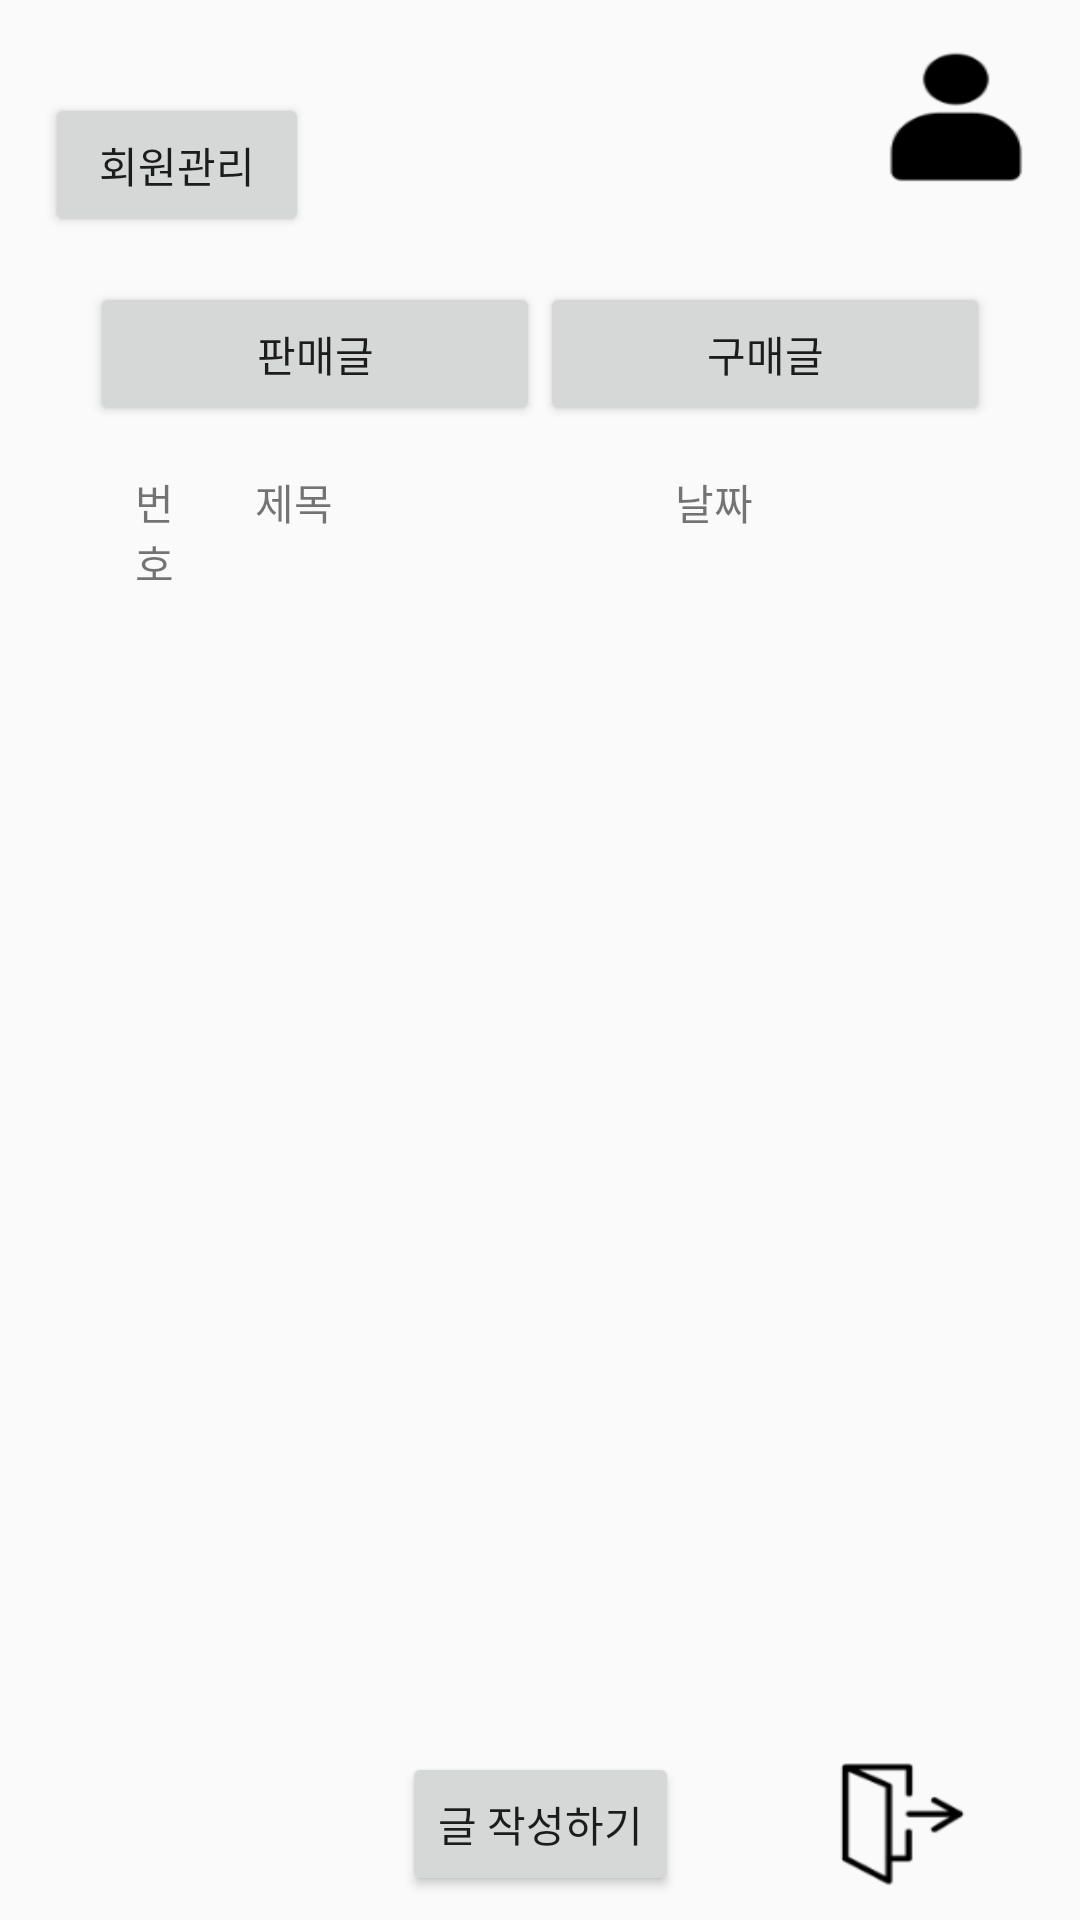

Point at icon controls on the screen. Image size 1080×1920, points as (x,y).
user: (956,117)
